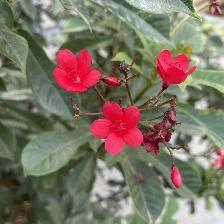jatropha: (91, 101, 145, 157), (54, 49, 103, 97)
